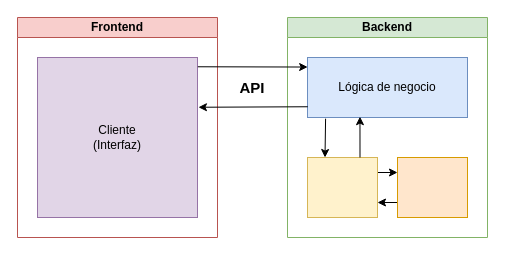
Image size: 505x255. Some labels were removed from this diagram. The shapes that lost their labels are listed below. From the top down, each one's box as (x1, y1, x2, y2) in pixels, then its label:
(306, 156, 378, 218): Base de datos
(396, 156, 468, 218): Alamace-namiento
